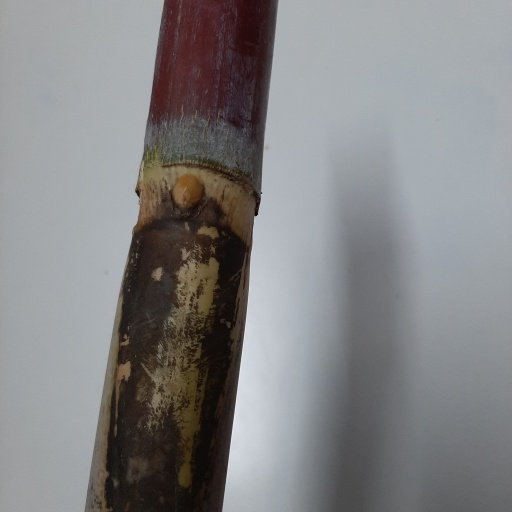Bud: (171, 174, 203, 211)
